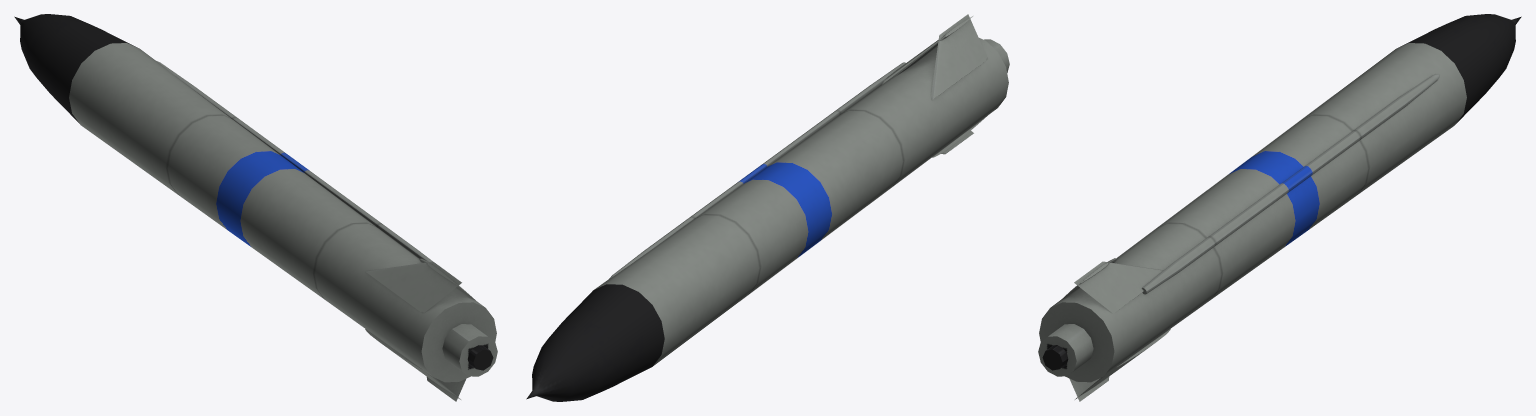
Rendered from AleX.fbx.
The picture shows the model from 3 angles, left to right: view 1: azimuth 30°, elevation 25°; view 2: azimuth 150°, elevation 25°; view 3: azimuth 330°, elevation 25°; orthographic projection.
Visible parts, largest first — view 1: Skin; view 2: Skin; view 3: Skin.
Boxes of the visible parts, x1,y1,x2,y2 form: Skin: (14,14,497,401); Skin: (526,14,1009,401); Skin: (1038,14,1521,401).
Size of what is drawn, in the model's own units: 10 by 13.65 by 97.
1 material, 1 textured.
